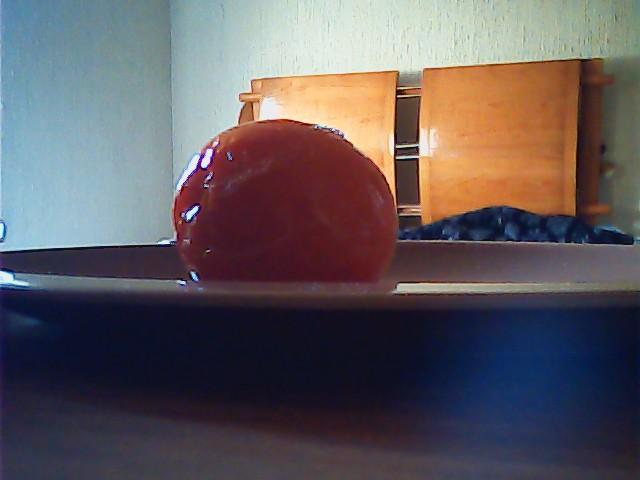maduro: (168, 117, 397, 299)
